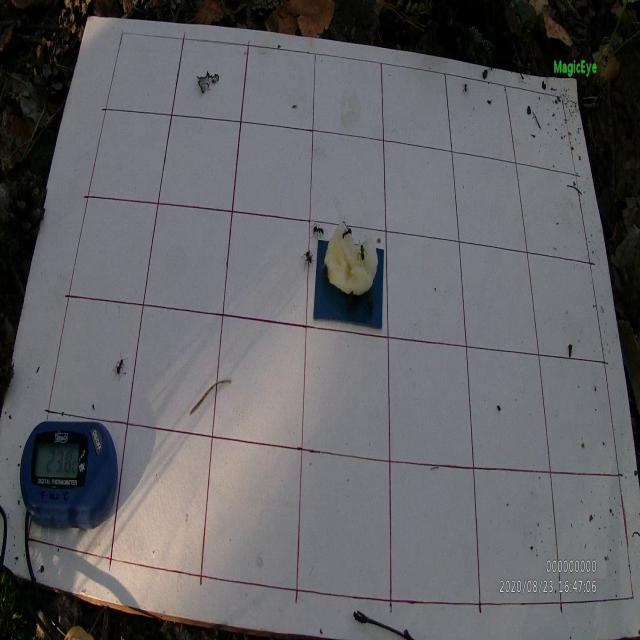Ant: (111, 351, 128, 381), (311, 222, 327, 240), (302, 250, 315, 269), (358, 244, 366, 266), (342, 224, 352, 241), (461, 82, 468, 95)
